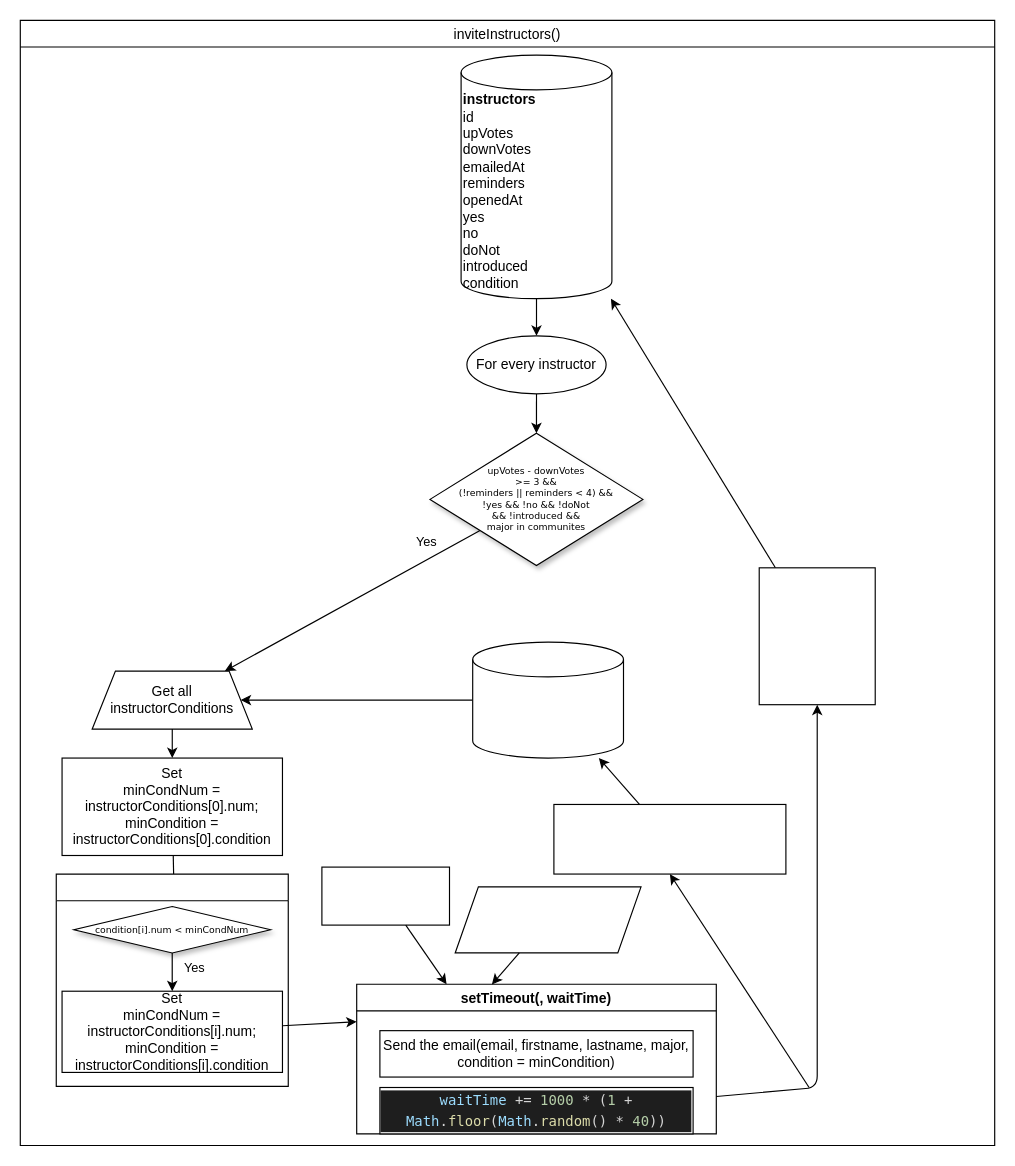
The diagram is 1015 pixels wide and 1166 high, and some of its shapes have lost their labels. Each missing label, with the centre of its shape:
For every condition, index i: (x=171, y=979)
instructorConditions condition num: (x=548, y=699)
Our Email address Our Email Password: (x=547, y=919)
Set condition = minCondition; emailedAt remonders++ || reminders = 1;: (x=816, y=636)
Set num++ Where condition == minCondition: (x=669, y=838)
Set waitTime = 0: (x=385, y=895)
